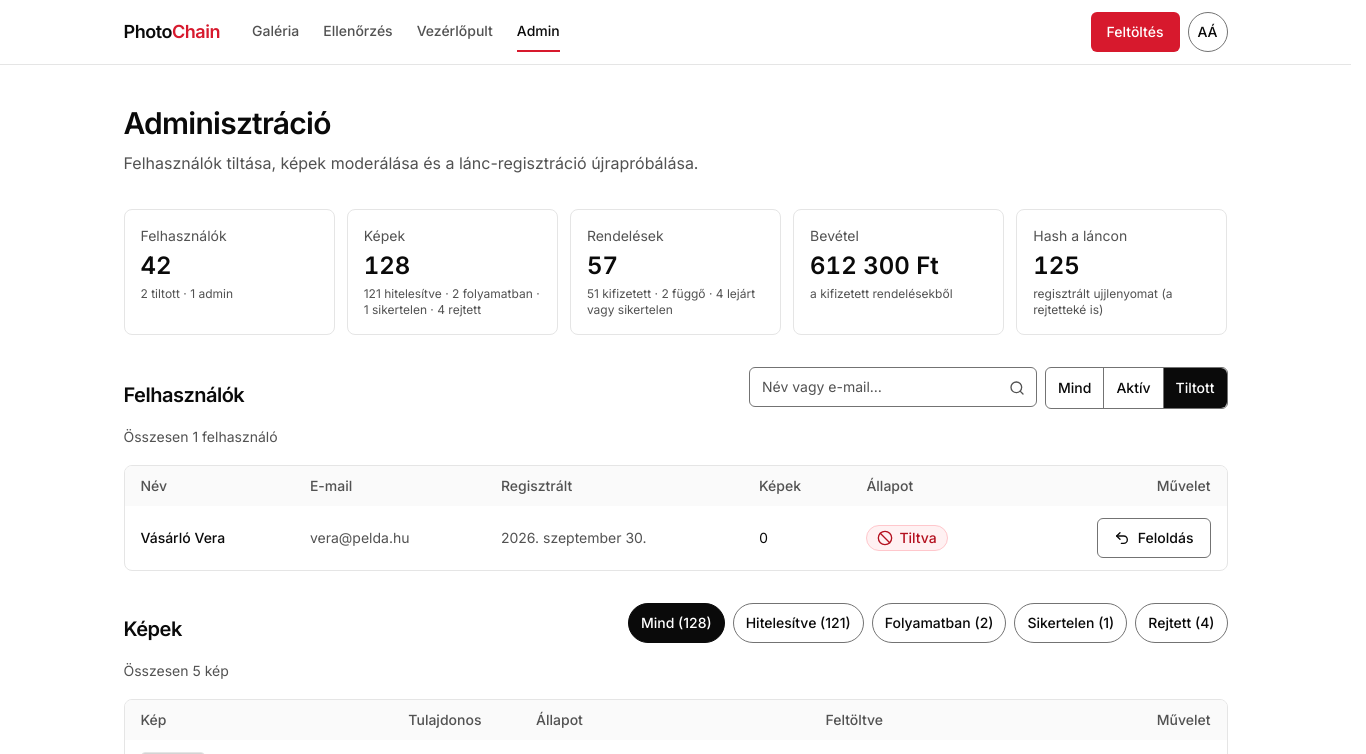
Test case: AdminPage – felhasználók tiltása és feloldása › szűrt listában (Tiltott) a feloldott felhasználó kikerül a listából: a bemondás ezt is mondja, a fókusz az üres állapot címére kerül (nem vész el)
Expected: the text "Összesen 1 felhasználó" is shown, [124,428,278,445]
What coordinates should you click on to do the following:
click the button named "Feloldás: Vásárló Vera"
I would click on:
 (1154, 538)
Its box is [1097,518,1210,558].
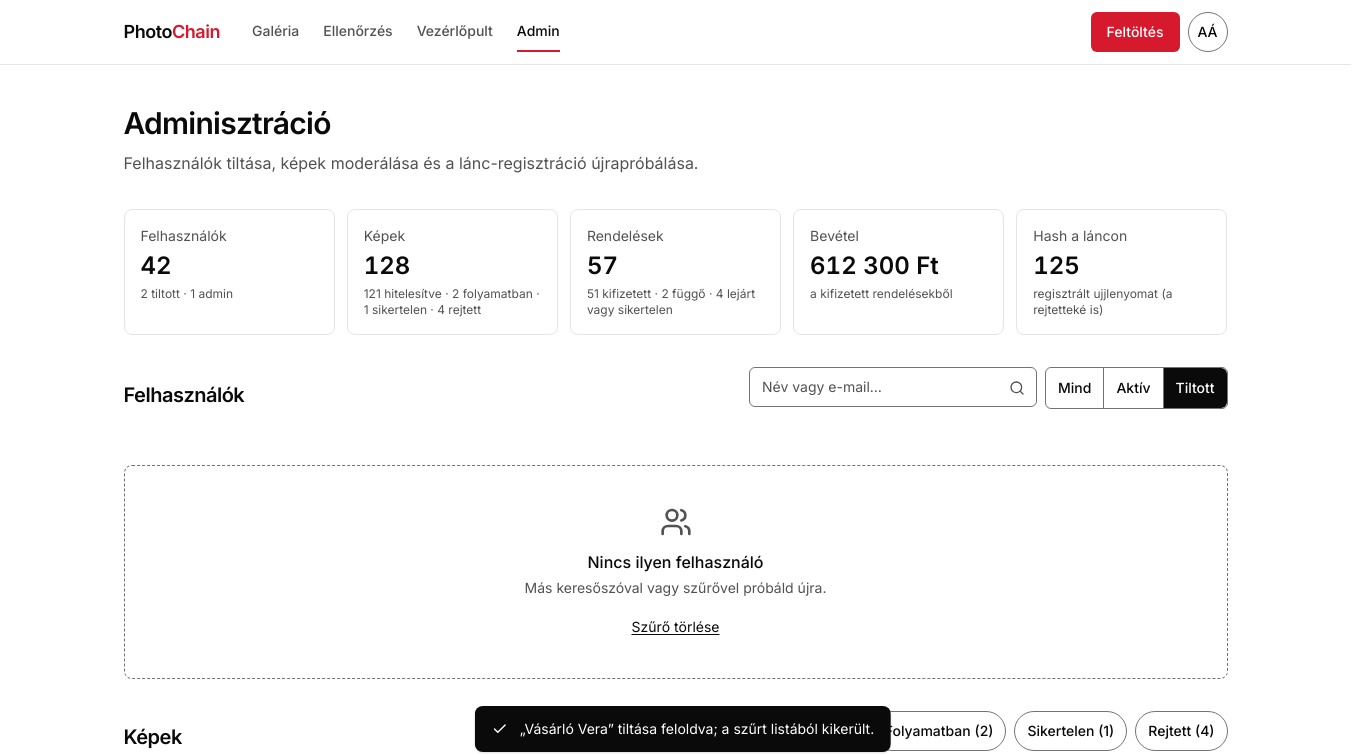
Result: the text "Nincs ilyen felhasználó" is shown at [588,550,764,574]
